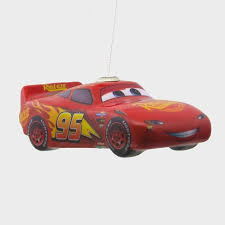mcqueen: (17, 78, 214, 159)
